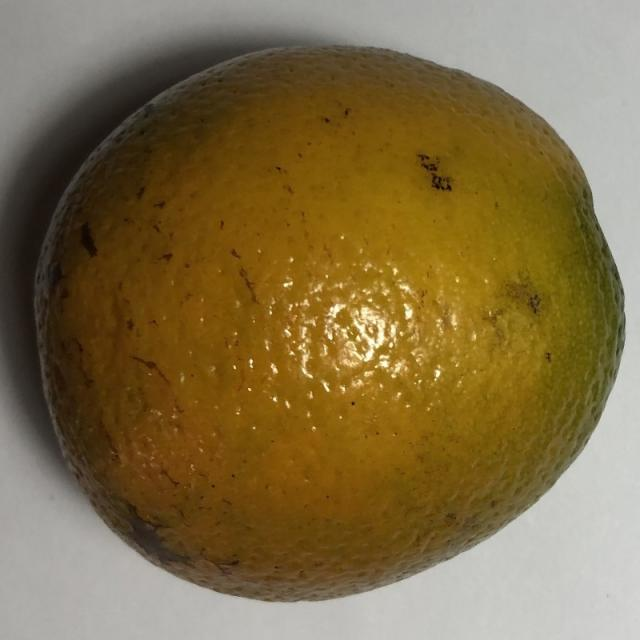blackspot: (3, 14, 634, 618)
